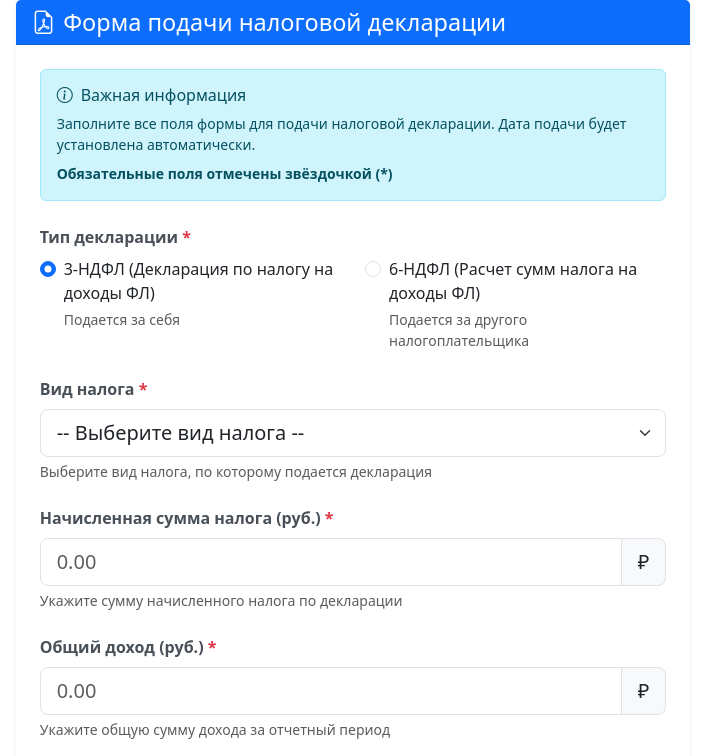
it: DeclarationForm › should switch between declaration types
Expected: the heading "Форма подачи налоговой декларации" is shown, [32, 6, 506, 38]
Expected: the radio button labelled "3-НДФЛ (Декларация по налогу на доходы ФЛ)" is checked, [40, 261, 56, 277]
Note: Switch to 6-NDFL
Click the radio button labelled "6-НДФЛ (Расчет сумм налога на доходы ФЛ)": (373, 269) [365, 261, 381, 277]
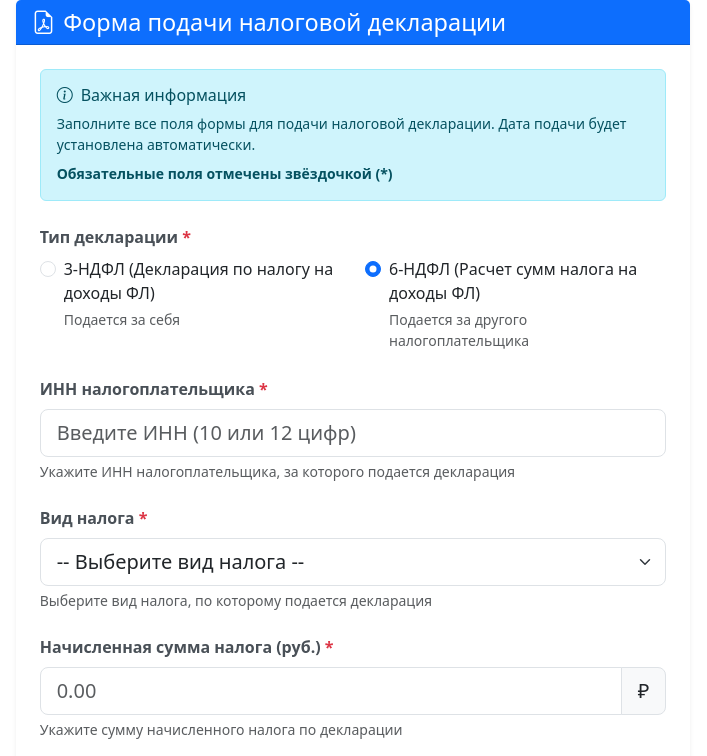
Now the radio button labelled "6-НДФЛ (Расчет сумм налога на доходы ФЛ)" is checked, box [365, 261, 381, 277]
Now the radio button labelled "3-НДФЛ (Декларация по налогу на доходы ФЛ)" is not checked, box [40, 261, 56, 277]
